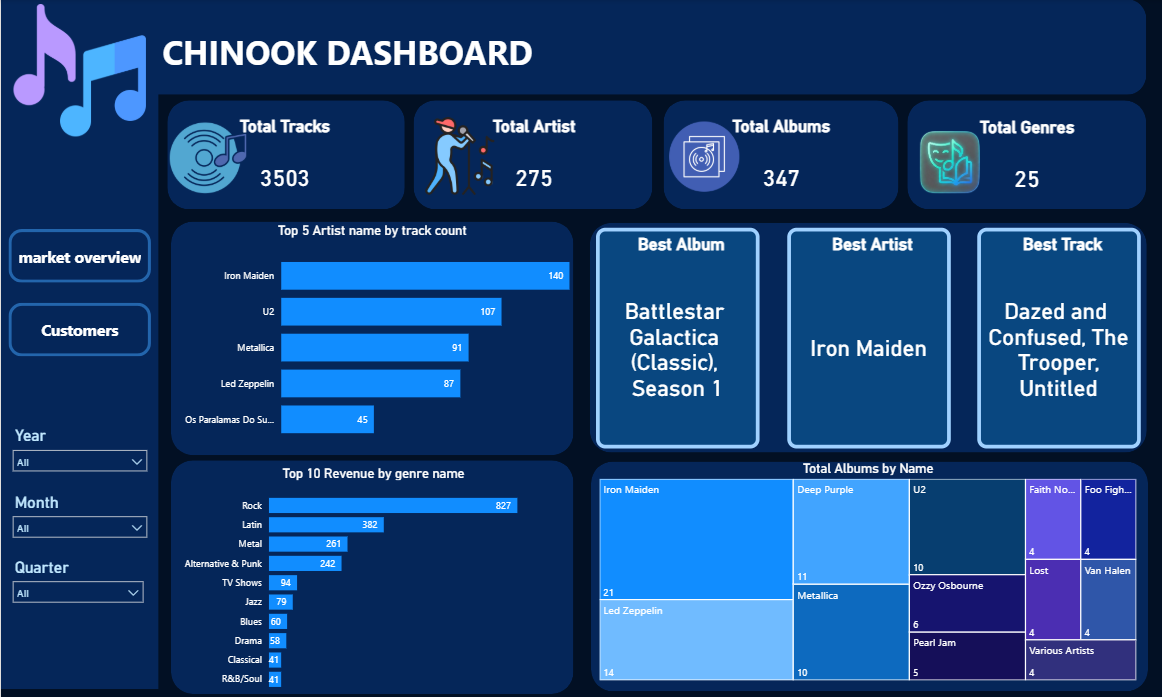

The page's visual inventory and layout, read from the dashboard file:
{"tool":"powerbi","page":{"name":"overview","canvas":[1500,900],"ordinal":0},"visuals":[{"type":"shape","box":[218.8,593,517.8,300.7],"z":0},{"type":"shape","box":[0,0,1473.3,123.3],"z":1000},{"type":"shape","box":[0,0,202.6,887.7],"z":2000},{"type":"shape","box":[213.8,130.3,305.7,140.3],"z":3000},{"type":"shape","box":[531.2,130.3,307.3,140.3],"z":4000},{"type":"shape","box":[851.9,130.3,302.3,140.3],"z":5000},{"type":"shape","box":[1165.9,130.3,307.3,140.3],"z":6000},{"type":"shape","box":[218.8,285.6,517.8,300.7],"z":7000},{"type":"textbox","box":[203.3,33.3,498.3,73.3],"z":8000},{"type":"image","box":[10,6.7,183.3,170],"z":9000},{"type":"card","title":"Total Tracks","fields":{"Values":["_Measures.Total Tracks"]},"box":[243.3,151.7,245,131.7],"z":10000},{"type":"card","title":"Total Artist","fields":{"Values":["_Measures.Total Artists"]},"box":[588.3,151.7,195,131.7],"z":11000},{"type":"card","title":"Total Albums","fields":{"Values":["_Measures.Total Albums"]},"box":[876.7,151.7,255,131.7],"z":12000},{"type":"card","title":"Total Genres","fields":{"Values":["_Measures.Total Genres"]},"box":[1206.7,153.3,228.3,131.7],"z":13000},{"type":"shape","title":"market overview","box":[9.6,296.3,183.3,69.1],"z":14000},{"type":"shape","box":[9.6,391.2,183.3,69.1],"z":15000},{"type":"barChart","title":"Top 5 Artist name by track count","fields":{"Category":["artist.Name"],"Y":["CountNonNull(invoiceline.TrackId)"]},"box":[218.8,287.3,517.8,295.7],"z":16000},{"type":"clusteredBarChart","title":"Top 10 Revenue by genre name","fields":{"Category":["genre.Name"],"Y":["_Measures.Revenue"]},"box":[221.9,599.8,514.6,300.7],"z":17000},{"type":"shape","box":[756.7,287.3,716.6,295.7],"z":18000},{"type":"shape","box":[758.4,594.7,716.6,295.7],"z":19000},{"type":"treemap","fields":{"Values":["_Measures.Total Albums"],"Group":["artist.Name"]},"box":[766,594,700,288],"z":20000},{"type":"card","title":"Best Album","fields":{"Values":["_Measures.Best Album"]},"box":[766,294,210,284],"z":21000},{"type":"card","title":"Best Artist","fields":{"Values":["_Measures.Best Artist"]},"box":[1011,294,210,284],"z":22000},{"type":"card","title":"Best Track","fields":{"Values":["_Measures.Best Track"]},"box":[1256,294,210,284],"z":23000},{"type":"slicer","fields":{"Values":["invoice.InvoiceDate.Variation.Date Hierarchy.Year"]},"box":[4.8,544.7,193,78.8],"z":24000},{"type":"slicer","fields":{"Values":["invoice.InvoiceDate.Variation.Date Hierarchy.Quarter"]},"box":[4.8,713.6,188.1,77.2],"z":25000},{"type":"slicer","fields":{"Values":["employee.HireDate.Variation.Date Hierarchy.Month"]},"box":[4.8,630,193,77.2],"z":26000},{"type":"image","box":[530.7,151.2,119,101.3],"z":27000},{"type":"image","box":[217.1,154.4,98.1,99.7],"z":28000},{"type":"image","box":[852.3,157.6,104.5,90.1],"z":29000},{"type":"image","box":[1125.6,141.5,191.4,154.4],"z":30000}]}

Visuals, with their boxes in screenshot pixels (x1, y1, x2, y2), scaled from the page's 1500x900 canvas onto the 1162x697 screenshot:
shape: left=169, top=459, right=571, bottom=692
shape: left=0, top=0, right=1141, bottom=95
shape: left=0, top=0, right=157, bottom=687
shape: left=166, top=101, right=402, bottom=210
shape: left=412, top=101, right=650, bottom=210
shape: left=660, top=101, right=894, bottom=210
shape: left=903, top=101, right=1141, bottom=210
shape: left=169, top=221, right=571, bottom=454
textbox: left=157, top=26, right=544, bottom=83
image: left=8, top=5, right=150, bottom=137
"Total Tracks" card: left=188, top=117, right=378, bottom=219
"Total Artist" card: left=456, top=117, right=607, bottom=219
"Total Albums" card: left=679, top=117, right=877, bottom=219
"Total Genres" card: left=935, top=119, right=1112, bottom=221
"market overview" shape: left=7, top=229, right=149, bottom=283
shape: left=7, top=303, right=149, bottom=356
"Top 5 Artist name by track count" barChart: left=169, top=222, right=571, bottom=452
"Top 10 Revenue by genre name" clusteredBarChart: left=172, top=465, right=571, bottom=696
shape: left=586, top=222, right=1141, bottom=452
shape: left=588, top=461, right=1143, bottom=690
treemap - _Measures.Total Albums x artist.Name: left=593, top=460, right=1136, bottom=683
"Best Album" card: left=593, top=228, right=756, bottom=448
"Best Artist" card: left=783, top=228, right=946, bottom=448
"Best Track" card: left=973, top=228, right=1136, bottom=448
slicer - invoice.InvoiceDate.Variation.Date Hierarchy.Year: left=4, top=422, right=153, bottom=483
slicer - invoice.InvoiceDate.Variation.Date Hierarchy.Quarter: left=4, top=553, right=149, bottom=612
slicer - employee.HireDate.Variation.Date Hierarchy.Month: left=4, top=488, right=153, bottom=548
image: left=411, top=117, right=503, bottom=196
image: left=168, top=120, right=244, bottom=197
image: left=660, top=122, right=741, bottom=192
image: left=872, top=110, right=1020, bottom=229
